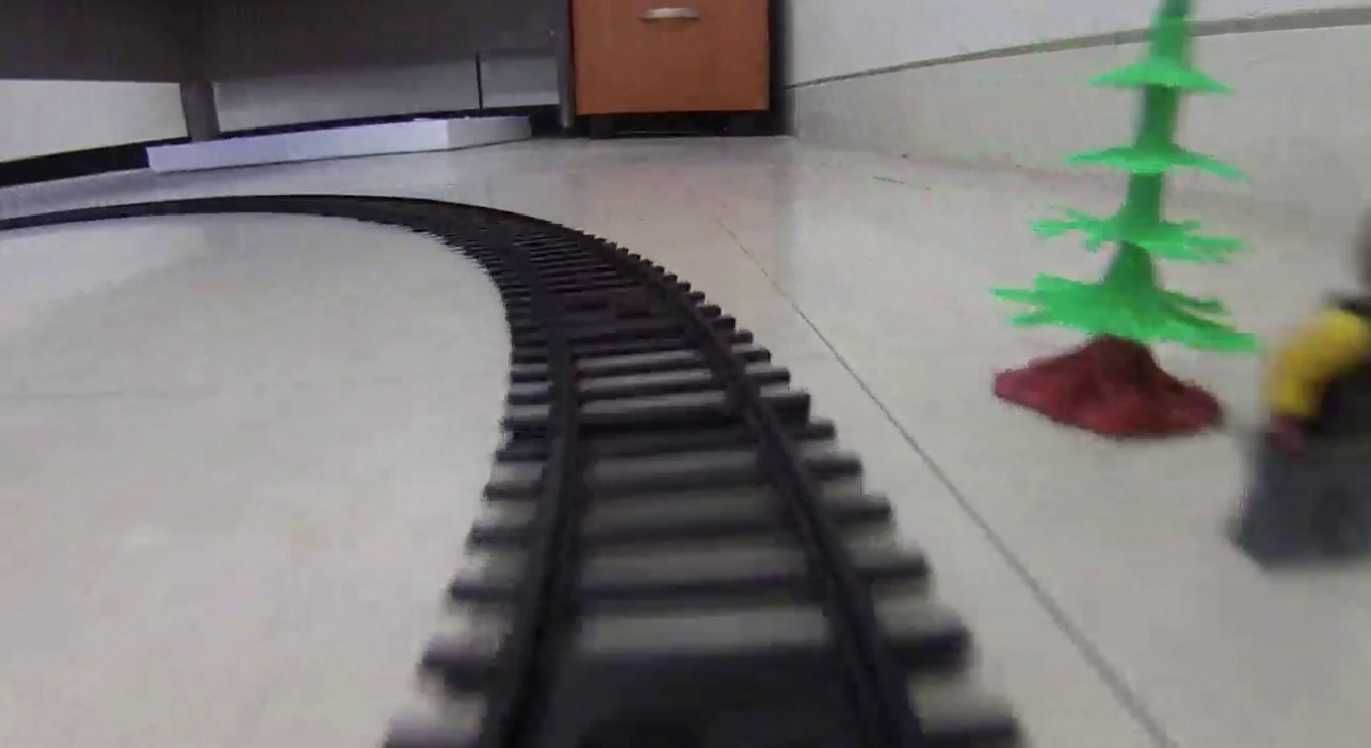tree: (997, 1, 1264, 438)
